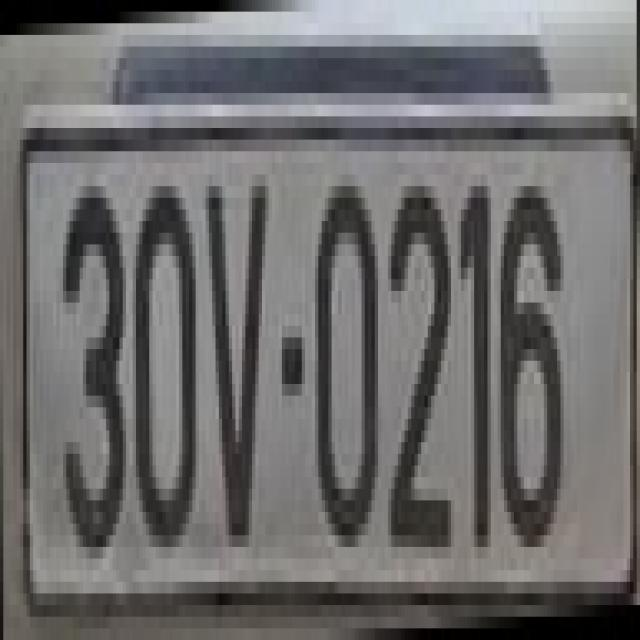0: (312, 174, 381, 547), (133, 174, 199, 547)
1: (458, 174, 494, 547)
2: (385, 174, 454, 547)
3: (60, 186, 126, 559)
6: (497, 174, 567, 547)
V: (206, 174, 268, 547)
